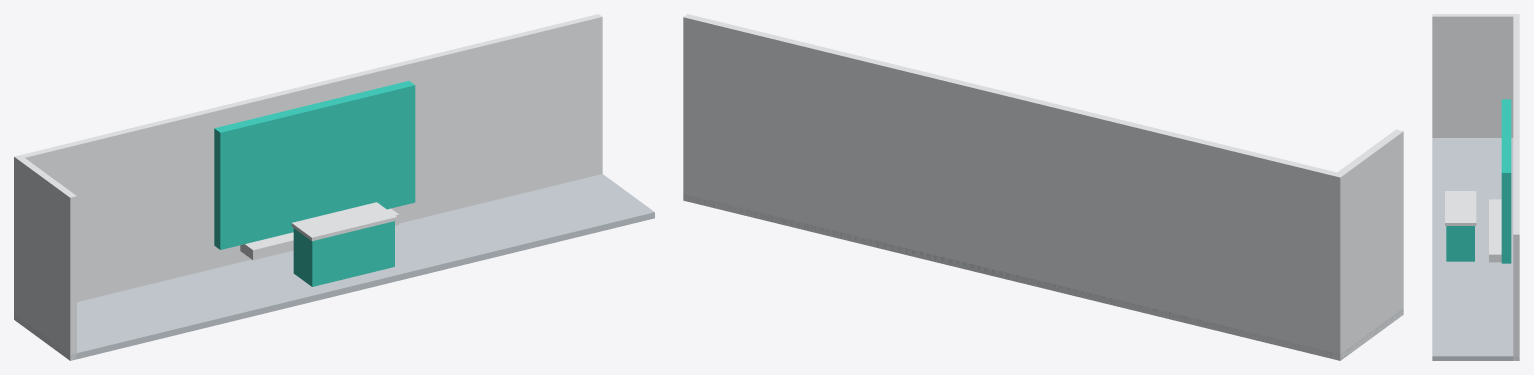
3 views of the same model, side by side, from view 1: azimuth 30°, elevation 25°; view 2: azimuth 150°, elevation 25°; view 3: azimuth 270°, elevation 25° (orthographic). The views are drawn at different scales.
Parts seen in each view (by area): view 1: Exhibition Booth Concept; view 2: Exhibition Booth Concept; view 3: Exhibition Booth Concept.
Part boxes in pixels (bbox=[...]): Exhibition Booth Concept: bbox=[14, 14, 654, 360]; Exhibition Booth Concept: bbox=[683, 14, 1403, 360]; Exhibition Booth Concept: bbox=[1432, 14, 1519, 360].
Bounding box in the file's own units: 12 × 3.2 × 2.
